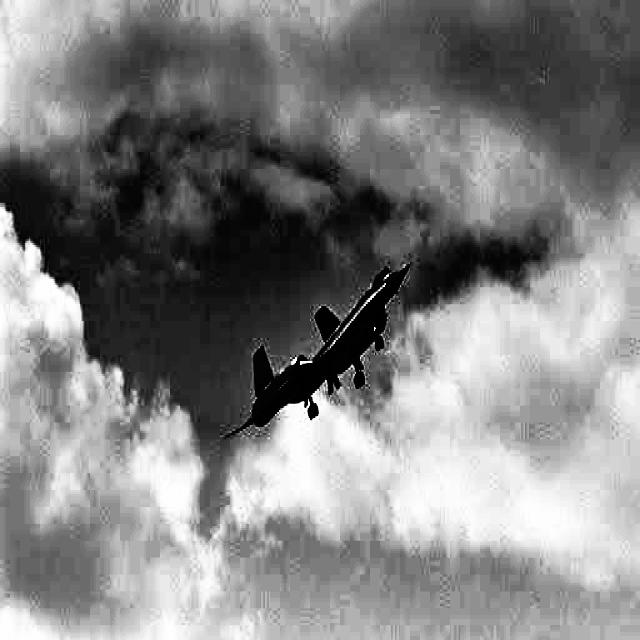Aircraft: (224, 258, 410, 437)
